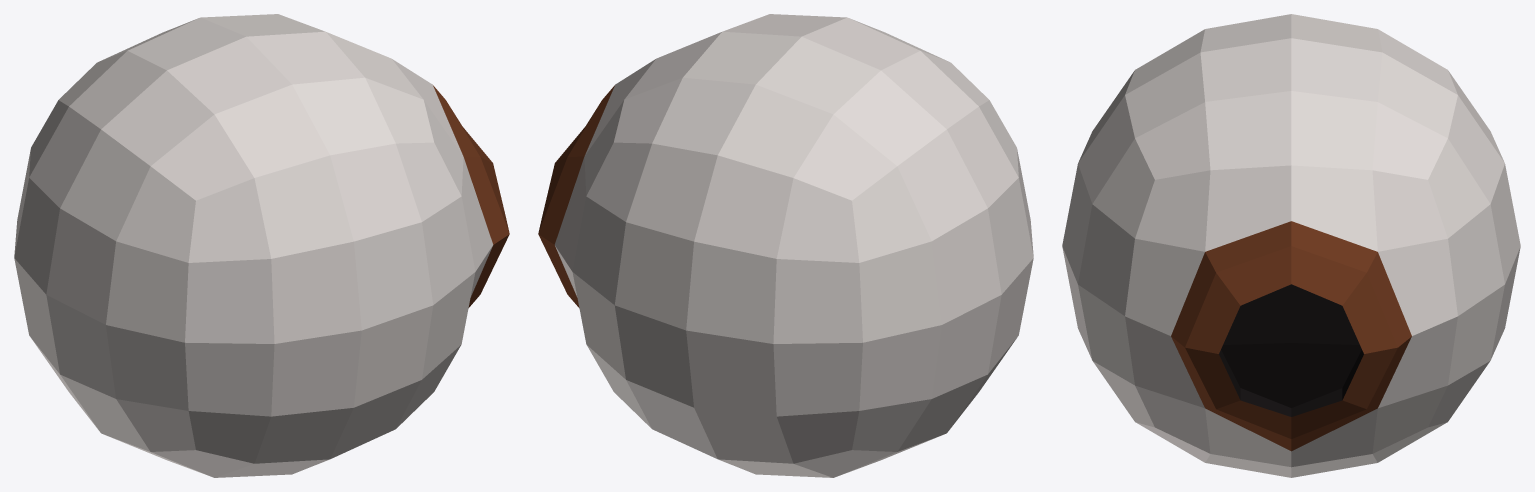
File: 20250820_website-eye_AARIALMA.glb
The picture shows the model from 3 angles, left to right: view 1: azimuth 30°, elevation 25°; view 2: azimuth 150°, elevation 25°; view 3: azimuth 270°, elevation 25°; orthographic projection.
Parts seen in each view (by area): view 1: eye; view 2: eye; view 3: eye.
Part boxes in pixels (<box>): eye: <box>14,14,509,477</box>; eye: <box>538,14,1033,477</box>; eye: <box>1062,14,1520,477</box>.
Bounding box in the file's own units: 1.78 × 1.68 × 1.68.
